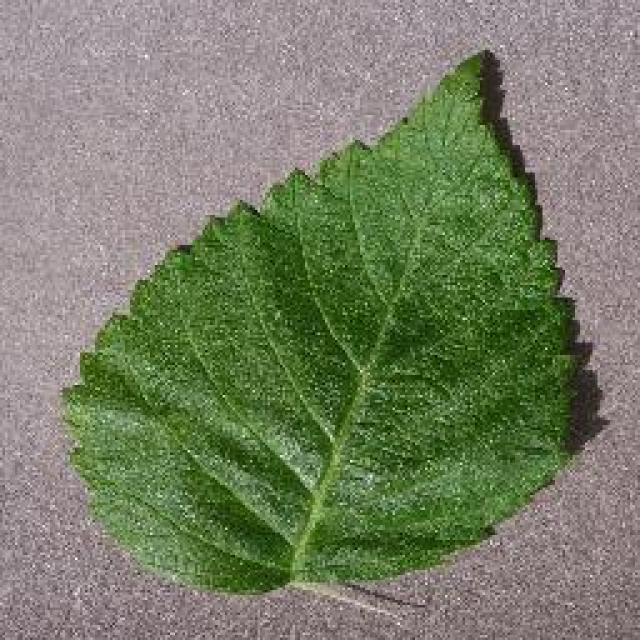Ras_healthy: (75, 114, 549, 576)
